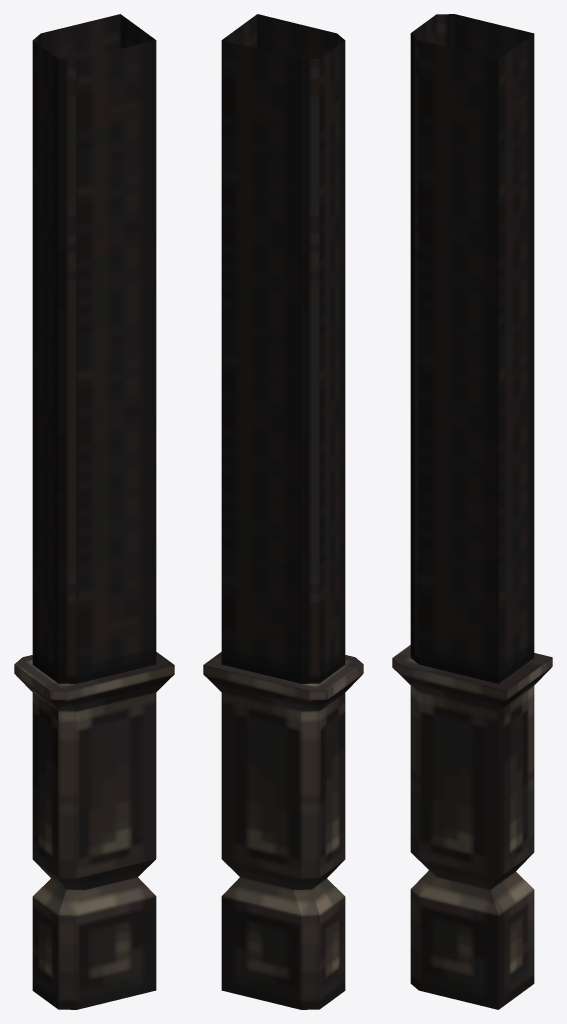
Rendered from EnvBdgMD_City_B_Indoor_Pillar_A.FBX.
3 views of the same model, side by side, from view 1: azimuth 30°, elevation 25°; view 2: azimuth 150°, elevation 25°; view 3: azimuth 330°, elevation 25° (orthographic).
Parts seen in each view (by area): view 1: EnvBdgMD_City_B_Indoor_Pillar_A; view 2: EnvBdgMD_City_B_Indoor_Pillar_A; view 3: EnvBdgMD_City_B_Indoor_Pillar_A.
Boxes of the visible parts, x1,y1,x2,y2 form: EnvBdgMD_City_B_Indoor_Pillar_A: [14, 14, 174, 1009]; EnvBdgMD_City_B_Indoor_Pillar_A: [203, 14, 363, 1009]; EnvBdgMD_City_B_Indoor_Pillar_A: [392, 14, 552, 1009].
Bounding box in the file's own units: 67.5 × 513 × 45.
